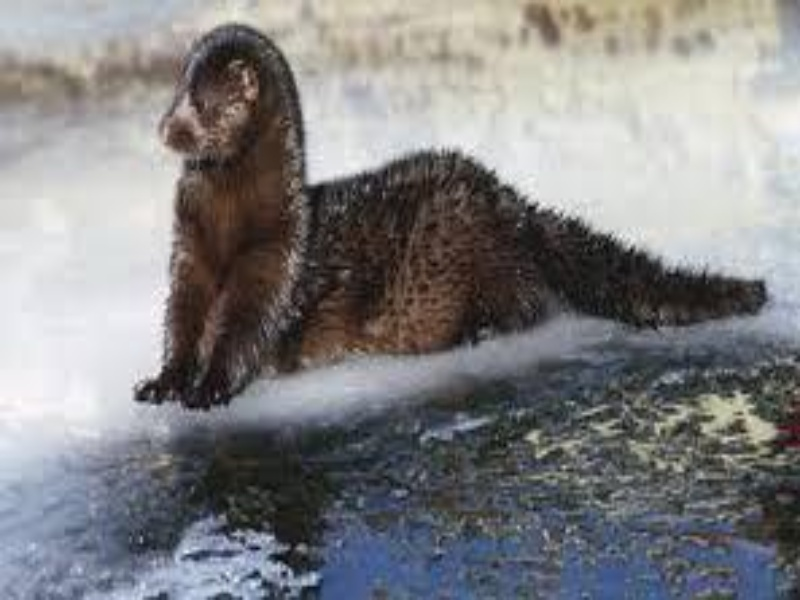minkish: (125, 21, 769, 418)
